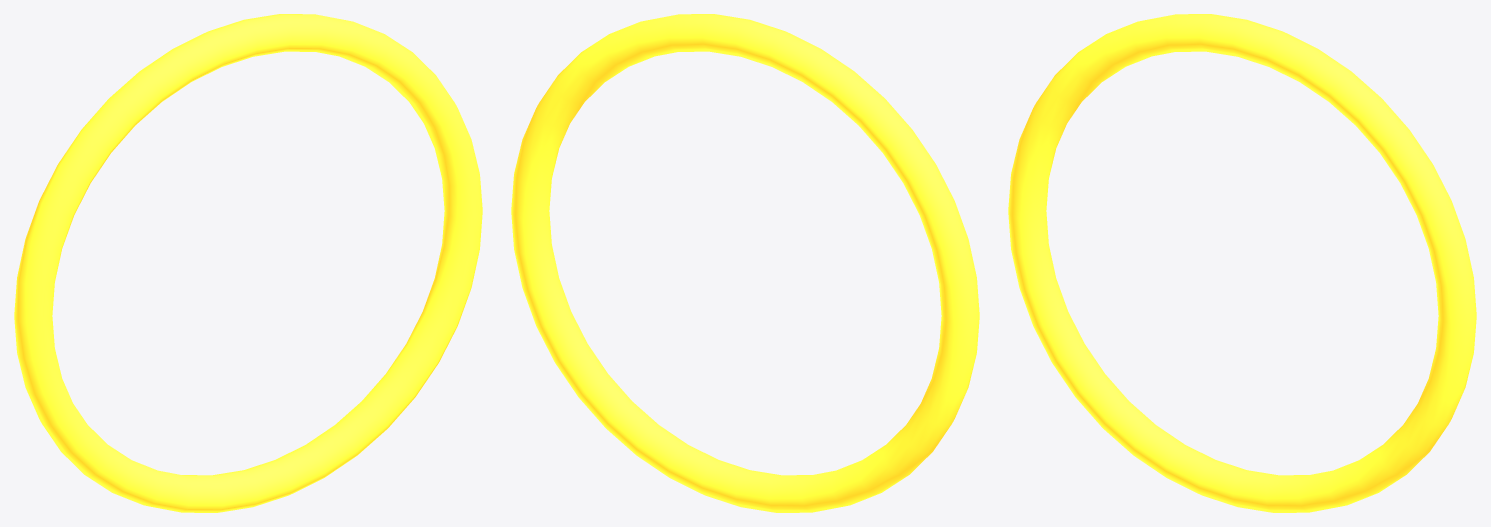
The model's file is argola.glb.
3 views of the same model, side by side, from view 1: azimuth 30°, elevation 25°; view 2: azimuth 150°, elevation 25°; view 3: azimuth 330°, elevation 25° (orthographic).
Visible parts, largest first — view 1: argola; view 2: argola; view 3: argola.
Boxes of the visible parts, x1,y1,x2,y2 form: argola: (14,14,482,512); argola: (511,14,979,512); argola: (1008,14,1476,512).
Bounding box in the file's own units: 5.6 × 5.6 × 0.4.
